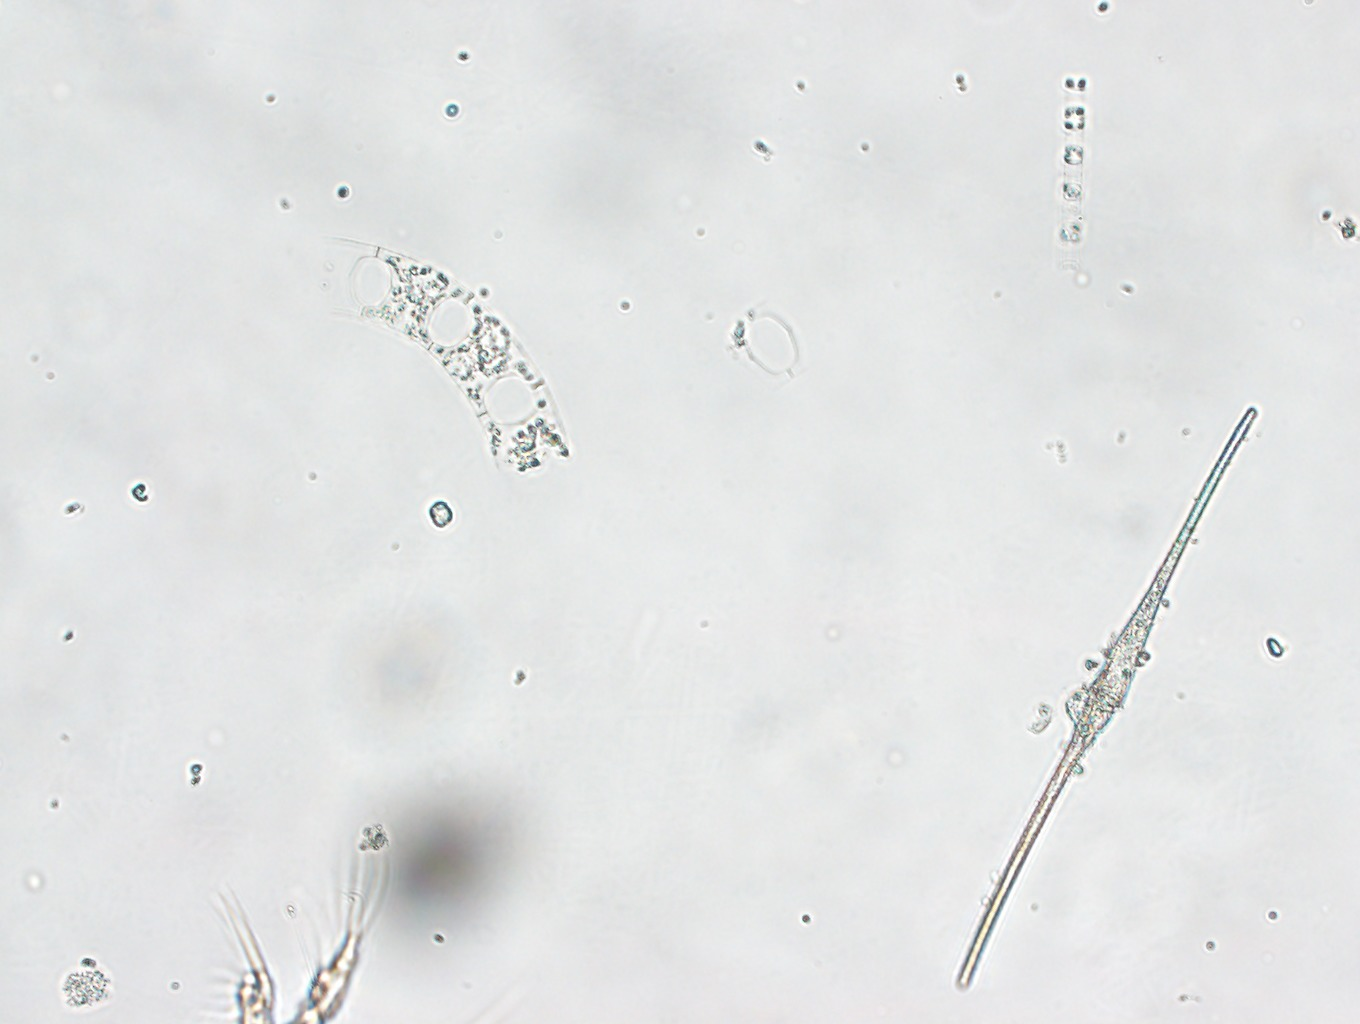ceratium fusus: (945, 390, 1264, 1002)
eucampia: (363, 248, 596, 500)
skeletonema: (1043, 68, 1094, 265)
